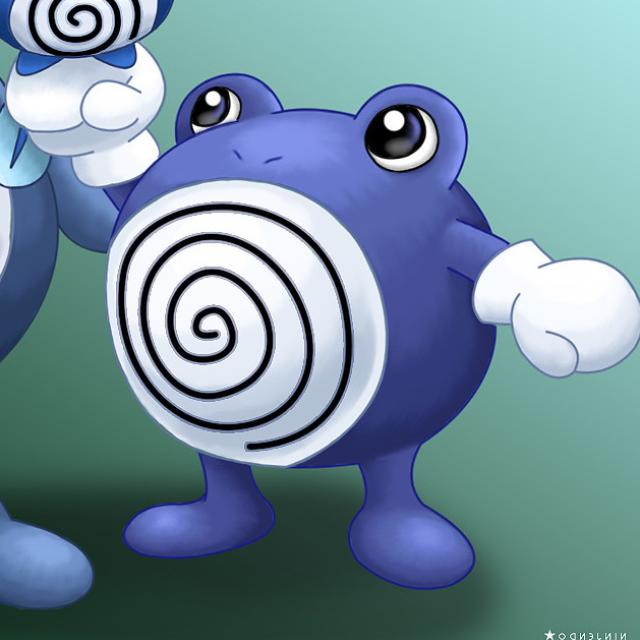Poliwhirl: (74, 76, 599, 558)
